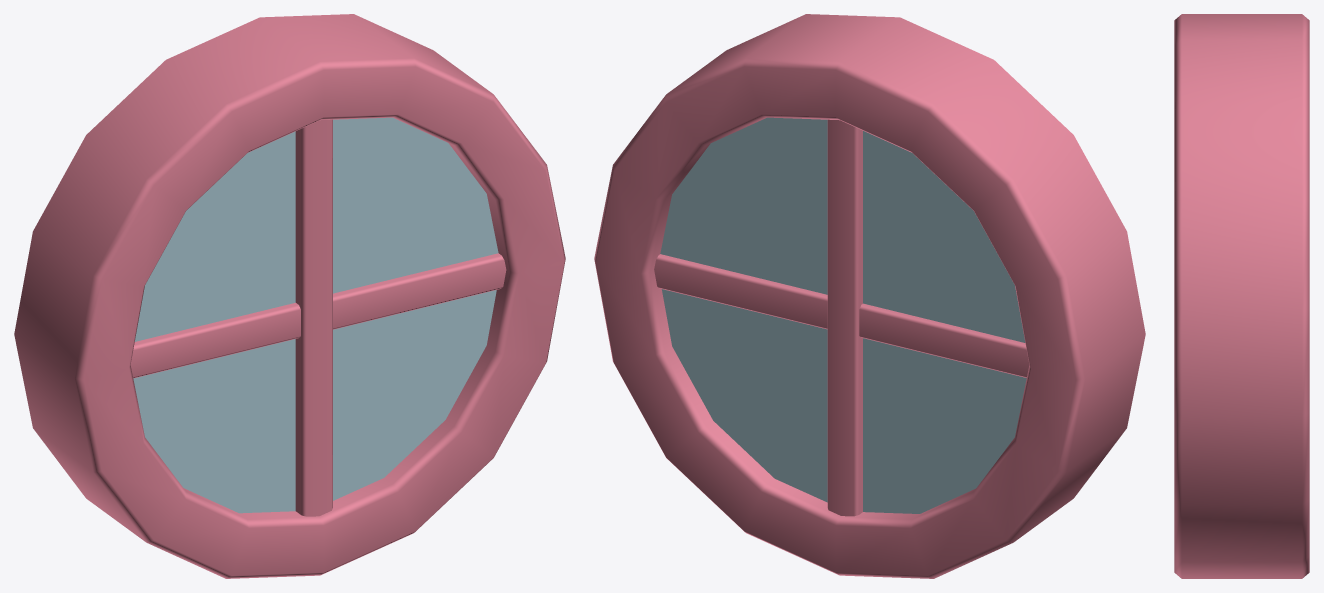
Rendered from Window_2.glb.
3 views of the same model, side by side, from view 1: azimuth 30°, elevation 25°; view 2: azimuth 150°, elevation 25°; view 3: azimuth 270°, elevation 25° (orthographic).
Parts seen in each view (by area): view 1: Window_2; view 2: Window_2; view 3: Window_2.
Boxes of the visible parts, x1,y1,x2,y2 form: Window_2: (14,14,565,578); Window_2: (594,14,1145,578); Window_2: (1174,14,1309,578).
Size of the model in its own units: 1.89 by 1.89 by 0.4516.
2 materials, 2 textured.
